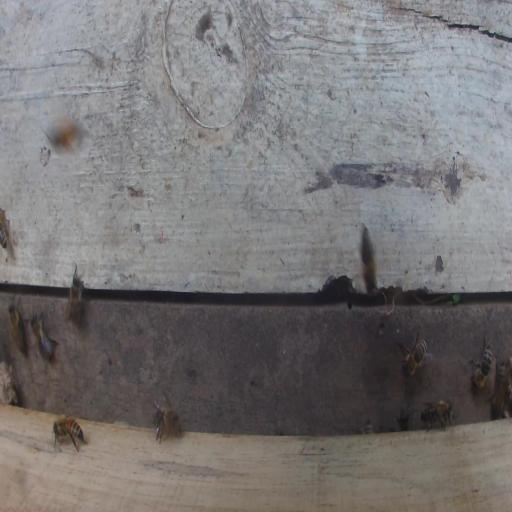nonpollenbee: (153, 392, 183, 443), (399, 329, 428, 378), (52, 413, 86, 453), (468, 335, 492, 390), (30, 312, 57, 360), (46, 116, 80, 151), (420, 399, 454, 431), (65, 264, 83, 324), (361, 227, 377, 293), (491, 363, 510, 418), (8, 303, 26, 355), (0, 208, 8, 250)
